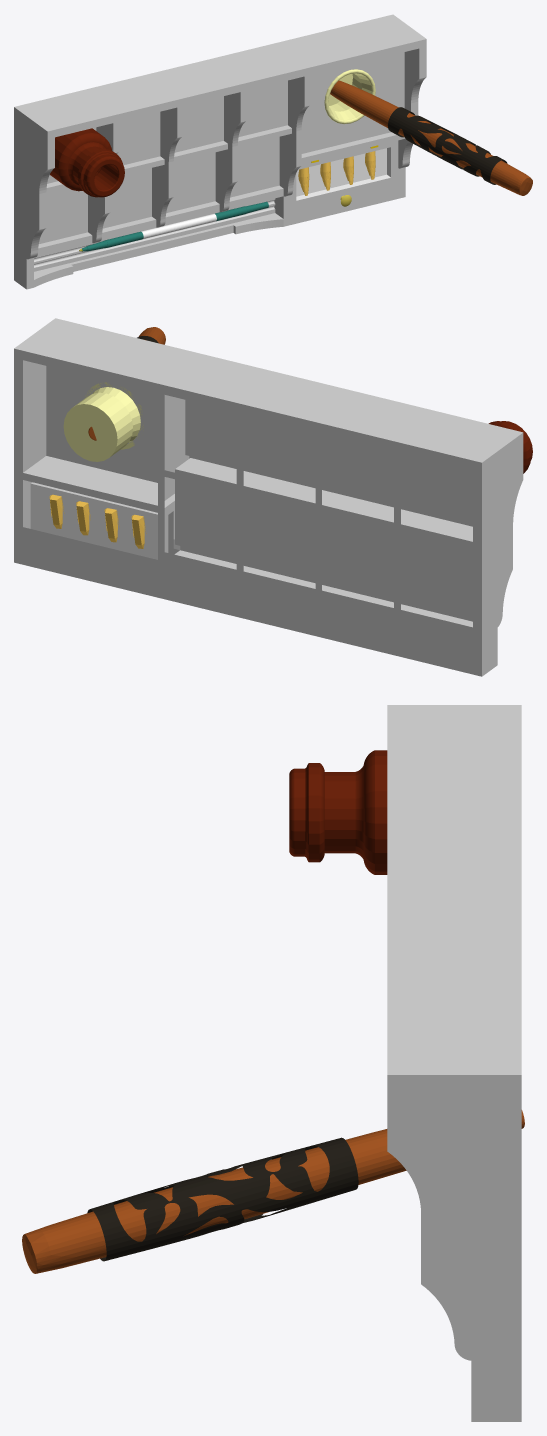
3 renders of one model, top to bottom at view 1: azimuth 30°, elevation 25°; view 2: azimuth 150°, elevation 25°; view 3: azimuth 270°, elevation 25°, orthographic. The views are drawn at different scales.
Visible parts, largest first — view 1: desk tray; view 2: desk tray; view 3: desk tray.
Part boxes in pixels (<box>): desk tray: <box>14,14,532,289</box>; desk tray: <box>14,318,532,676</box>; desk tray: <box>22,705,524,1421</box>.
Size of the model in its own units: 6.81 by 2.84 by 3.73.
